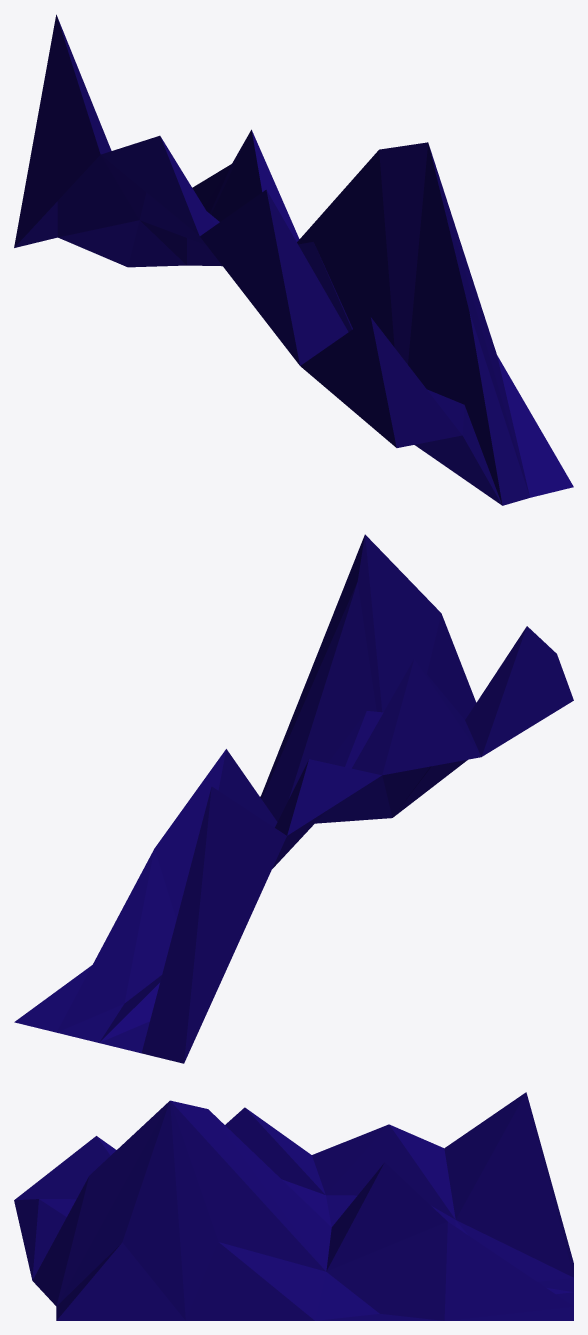
File: mountain.fbx
3 views of the same model, one above another, from view 1: azimuth 30°, elevation 25°; view 2: azimuth 150°, elevation 25°; view 3: azimuth 270°, elevation 25° (orthographic). The views are drawn at different scales.
Visible parts, largest first — view 1: Plane; view 2: Plane; view 3: Plane.
Part boxes in pixels (x1,y1,x2,y2): Plane: (14, 14, 573, 505); Plane: (14, 534, 573, 1063); Plane: (14, 1092, 573, 1320).
Bounding box in the file's own units: 4181 × 6422 × 16268.
